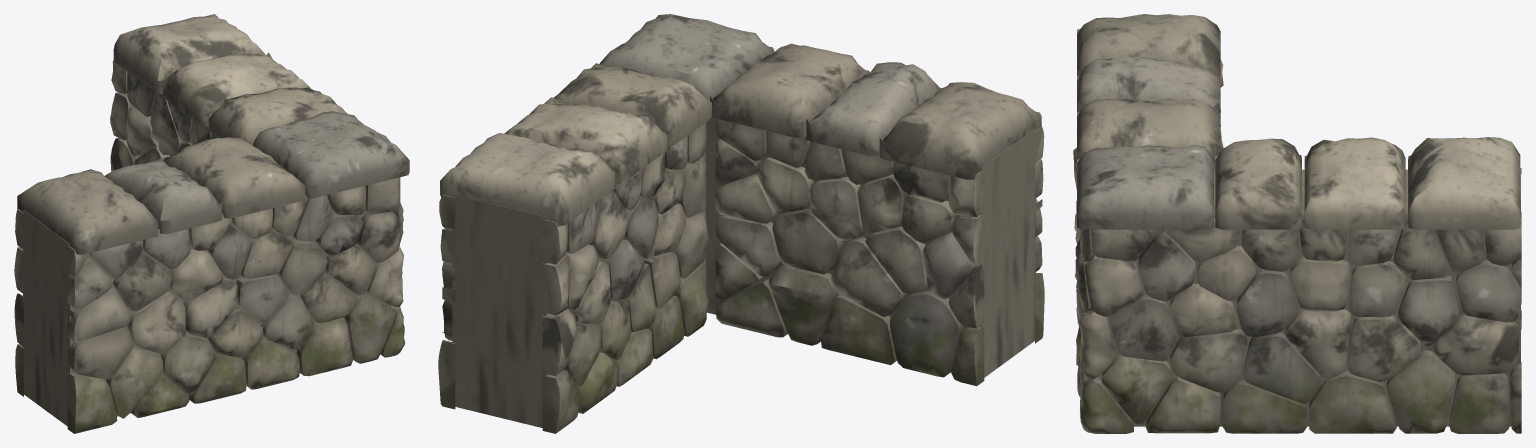
File: Ishigaki_Corner.gltf
3 renders of one model, left to right at view 1: azimuth 30°, elevation 25°; view 2: azimuth 150°, elevation 25°; view 3: azimuth 270°, elevation 25°, orthographic. The views are drawn at different scales.
Visible parts, largest first — view 1: Ishigaki_Corner; view 2: Ishigaki_Corner; view 3: Ishigaki_Corner.
Part boxes in pixels (bbox=[...]): Ishigaki_Corner: bbox=[14, 14, 409, 433]; Ishigaki_Corner: bbox=[438, 14, 1044, 433]; Ishigaki_Corner: bbox=[1073, 14, 1521, 433].
Size of the model in its own units: 2.41 by 1.49 by 2.4.
Materials: 1 (1 with a texture image).
